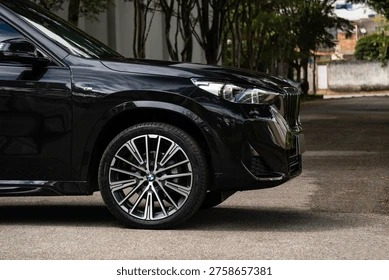car: (1, 2, 316, 223)
